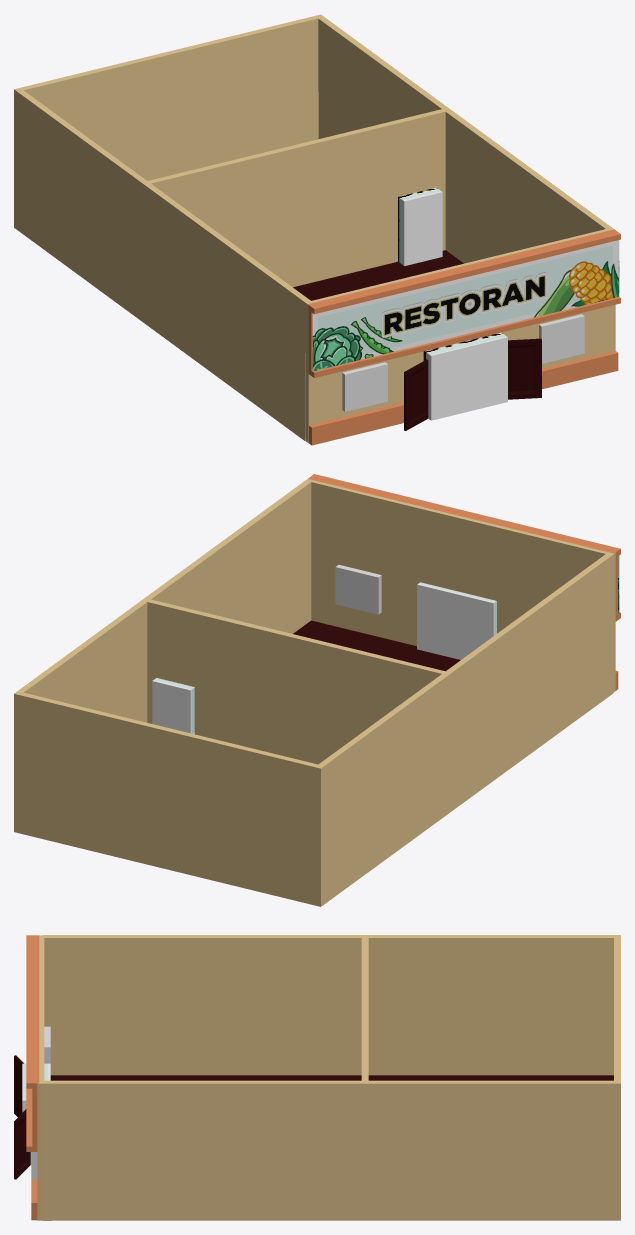
Rendered from Restaurant2_1.fbx.
The picture shows the model from 3 angles, top to bottom: view 1: azimuth 30°, elevation 25°; view 2: azimuth 150°, elevation 25°; view 3: azimuth 270°, elevation 25°; orthographic projection.
Visible parts, largest first — view 1: Side walls, Inner wall, Banner, Front wall, Deco 2, Front hole, Deco, Front window, Front doors, Kitchen hole, Base 180 x 300; view 2: Inner wall, Side walls, Front wall, Front hole, Base 180 x 300, Deco 2, Kitchen hole, Front window; view 3: Side walls, Base 180 x 300, Deco 2, Inner wall, Front wall, Front doors, Front window.
Part boxes in pixels (<box>): Side walls: <box>14,15,611,441</box>; Inner wall: <box>14,14,450,287</box>; Banner: <box>312,240,619,371</box>; Front wall: <box>305,228,615,443</box>; Deco 2: <box>308,229,620,377</box>; Front hole: <box>425,332,507,420</box>; Deco: <box>309,350,618,445</box>; Front window: <box>342,314,584,411</box>; Front doors: <box>404,338,541,430</box>; Kitchen hole: <box>398,187,442,265</box>; Base 180 x 300: <box>293,250,463,300</box>; Inner wall: <box>14,598,449,906</box>; Side walls: <box>16,480,613,906</box>; Front wall: <box>306,479,615,692</box>; Front hole: <box>417,582,496,659</box>; Base 180 x 300: <box>293,620,460,671</box>; Deco 2: <box>308,474,620,621</box>; Kitchen hole: <box>152,678,194,734</box>; Front window: <box>335,565,381,614</box>; Side walls: <box>43,935,620,1220</box>; Base 180 x 300: <box>50,1075,613,1080</box>; Deco 2: <box>26,935,39,1151</box>; Inner wall: <box>361,935,620,1083</box>; Front wall: <box>37,935,44,1220</box>; Front doors: <box>14,1055,30,1179</box>; Front window: <box>31,1026,50,1179</box>.
Bounding box in the file's own units: 18081 × 7761 × 31153.
4 materials, 1 textured.
